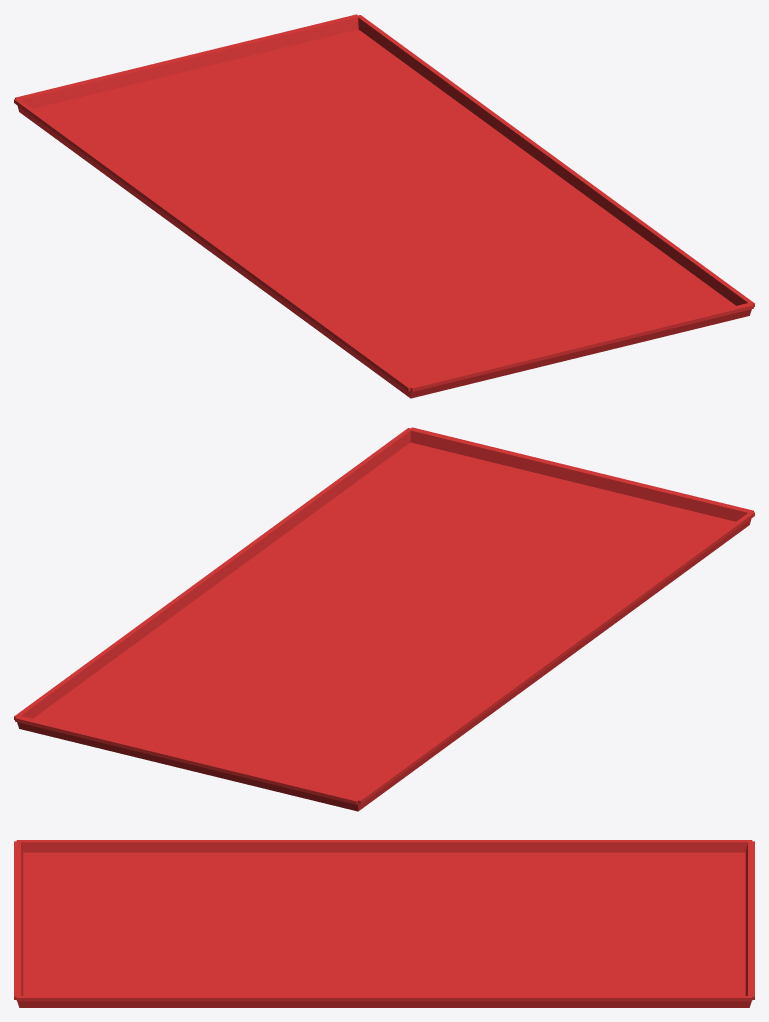
The model's file is podnos02.fbx.
The picture shows the model from 3 angles, top to bottom: view 1: azimuth 30°, elevation 25°; view 2: azimuth 150°, elevation 25°; view 3: azimuth 270°, elevation 25°; orthographic projection. The views are drawn at different scales.
Visible parts, largest first — view 1: Cube; view 2: Cube; view 3: Cube.
Boxes of the visible parts, left/top/right/bottom form: Cube: left=14, top=14, right=754, bottom=398; Cube: left=14, top=427, right=754, bottom=811; Cube: left=14, top=840, right=754, bottom=1007.
Size of the model in its own units: 20.3 by 0.6996 by 40.3.
